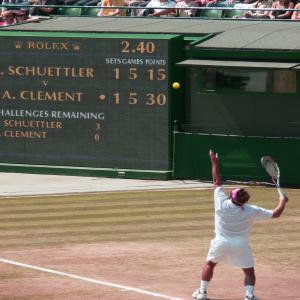TennisBall: (173, 84, 179, 89)
